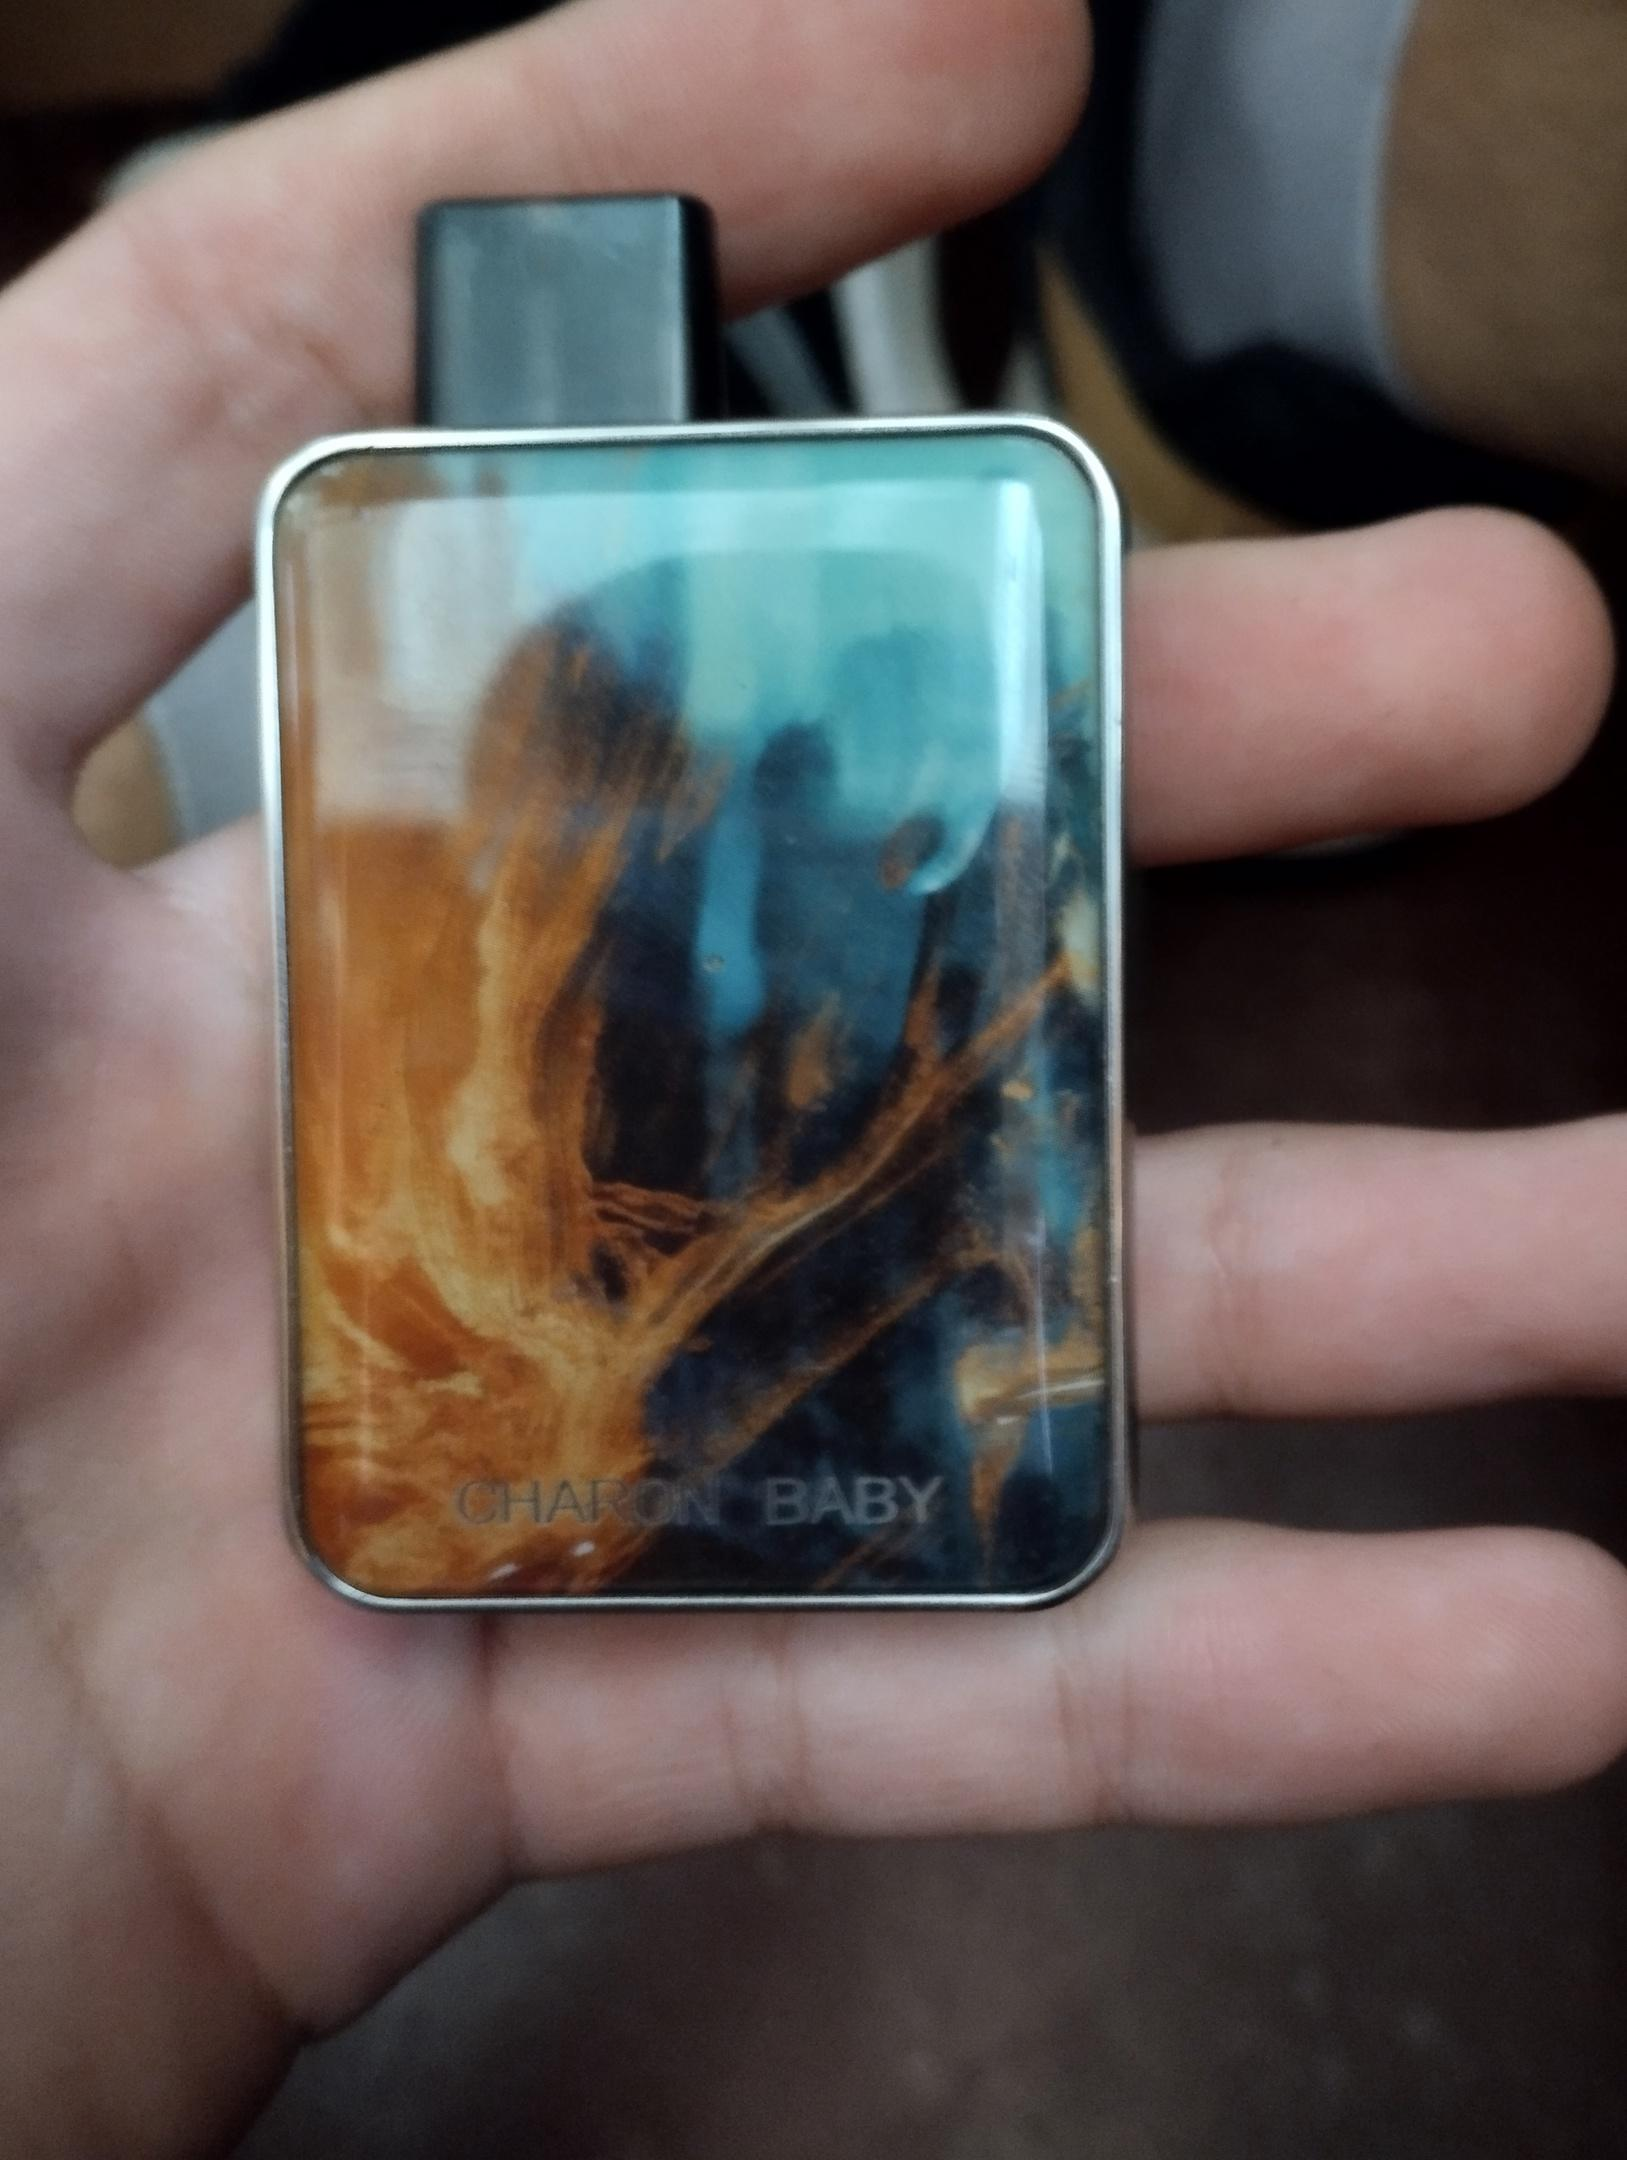Vape: (256, 195, 1126, 1610)
